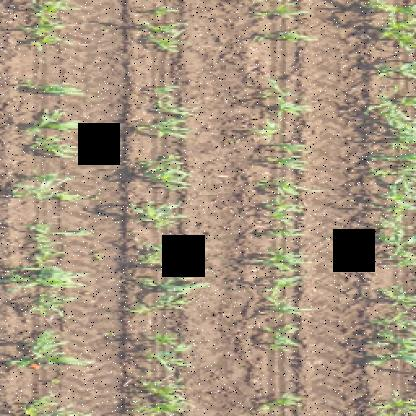sorghum_plant: (7, 73, 91, 416), (130, 66, 201, 416), (364, 0, 416, 416), (254, 71, 318, 356), (13, 0, 85, 52), (245, 2, 322, 48), (134, 0, 202, 52)
